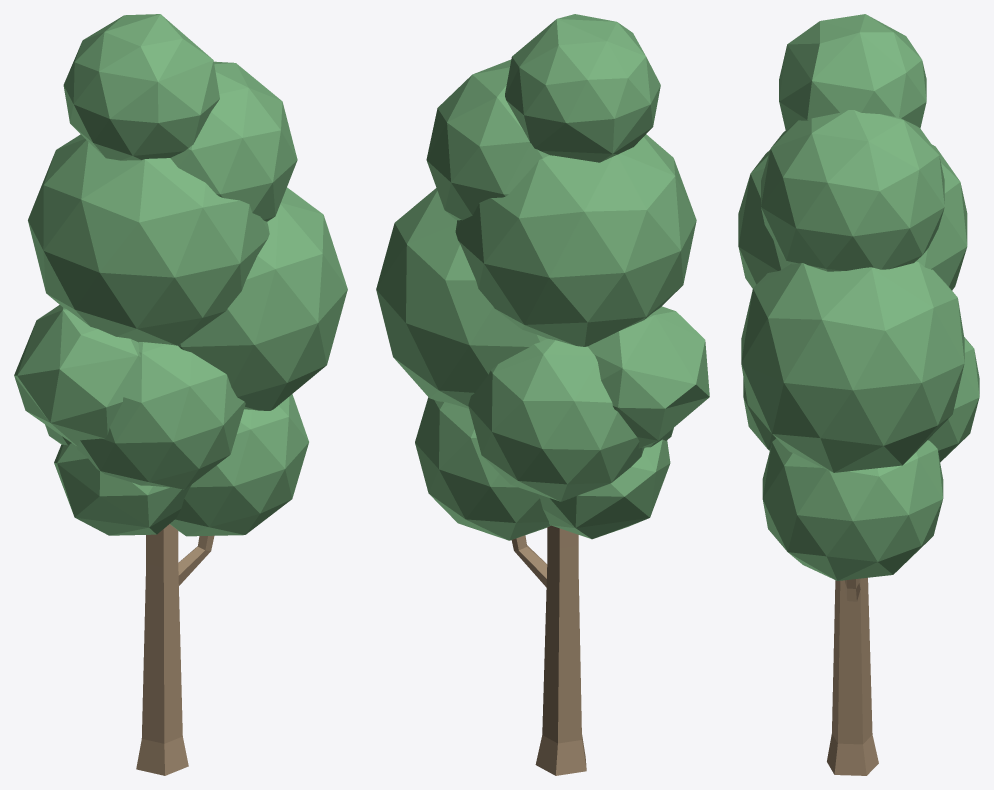
Rendered from tree-oak.glb.
The picture shows the model from 3 angles, left to right: view 1: azimuth 30°, elevation 25°; view 2: azimuth 150°, elevation 25°; view 3: azimuth 270°, elevation 25°; orthographic projection.
Visible parts, largest first — view 1: tree_oak; view 2: tree_oak; view 3: tree_oak.
Boxes of the visible parts, x1,y1,x2,y2 form: tree_oak: [14, 14, 347, 775]; tree_oak: [376, 14, 709, 775]; tree_oak: [738, 14, 979, 775].
Size of the model in its own units: 420 by 968 by 288.
